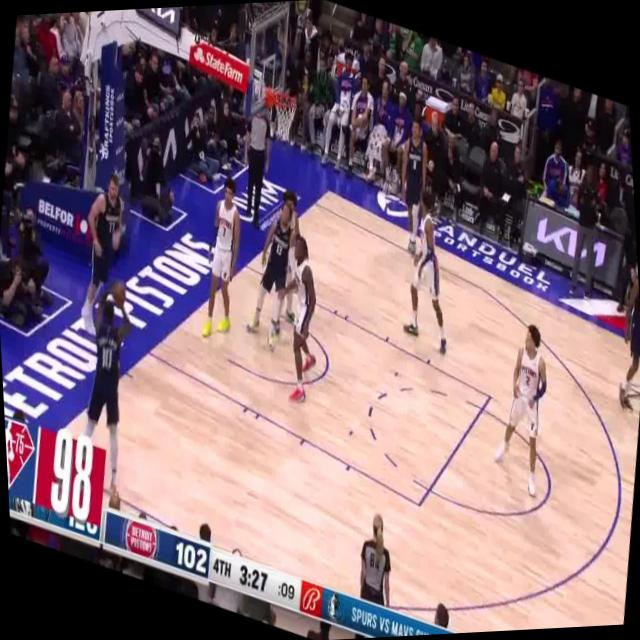ball-handler: (56, 265, 151, 522)
